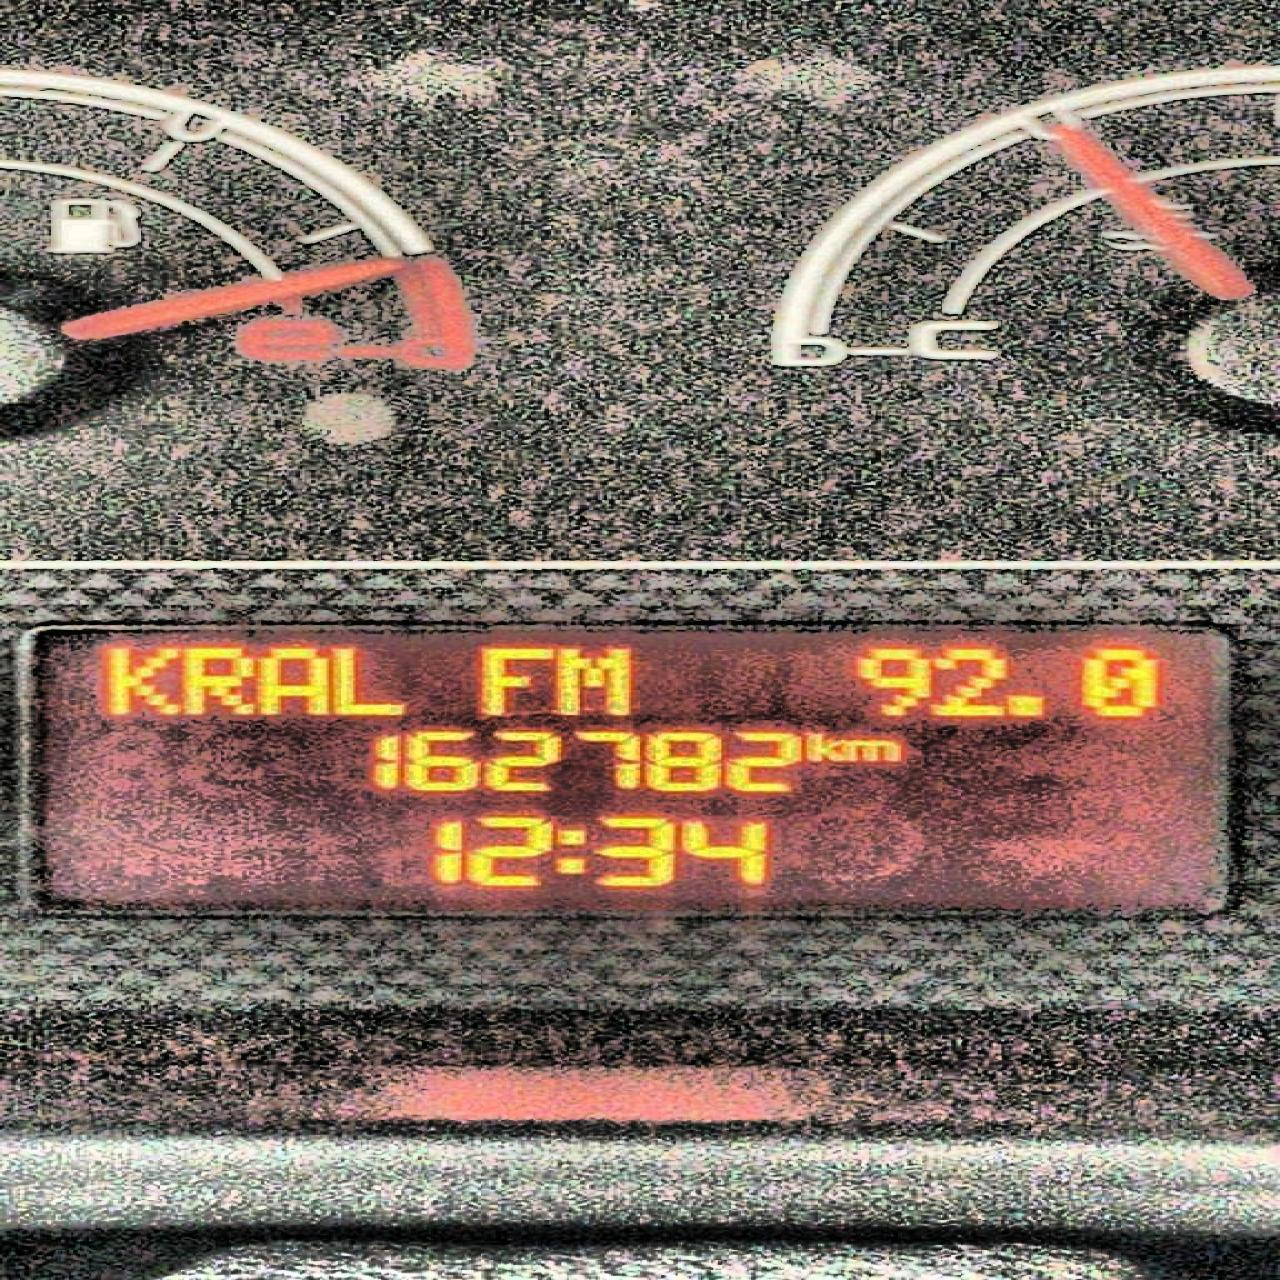-: (1002, 688, 1054, 723)
0: (1071, 640, 1162, 720)
1: (424, 813, 459, 885), (367, 730, 397, 790)
2: (464, 811, 551, 886), (926, 641, 1007, 719), (484, 728, 565, 790), (727, 728, 802, 792)
3: (591, 811, 678, 888)
4: (680, 815, 774, 887)
6: (407, 726, 482, 791)
7: (568, 723, 638, 791)
8: (645, 726, 724, 794)
9: (849, 640, 927, 716)
X: (474, 639, 556, 719), (556, 641, 635, 716), (102, 642, 178, 716), (329, 644, 407, 715), (181, 644, 251, 717), (258, 644, 327, 715), (838, 735, 904, 765), (553, 824, 587, 877), (804, 728, 838, 763)
odometer: (2, 610, 1242, 921)
